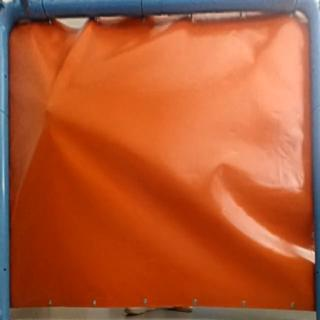Hit-hRxx: (43, 106, 54, 116)
